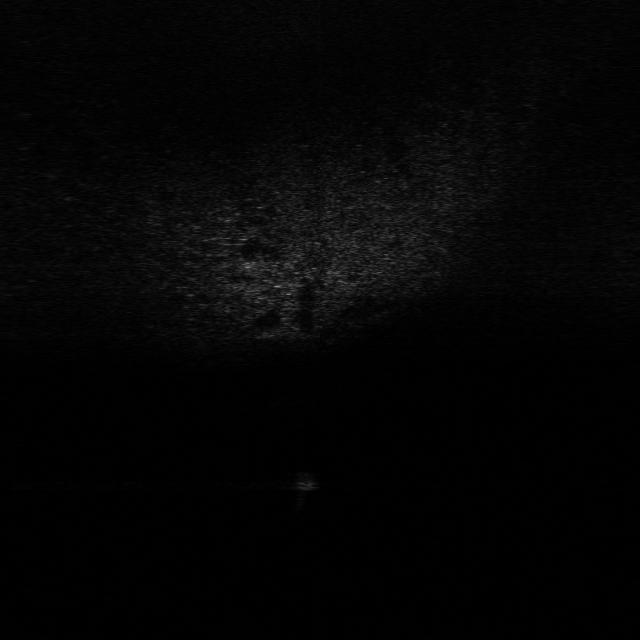cylinder: (291, 469, 318, 492)
